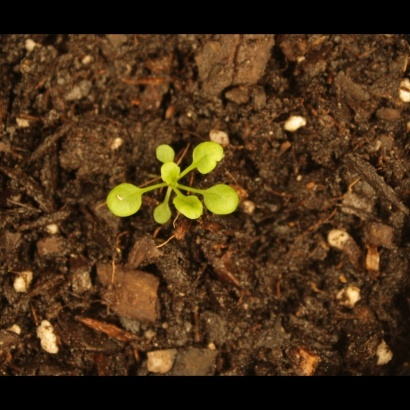leaf: (103, 179, 145, 220), (190, 135, 228, 176), (204, 180, 242, 220), (175, 187, 208, 223), (147, 139, 184, 170), (157, 157, 185, 188), (150, 199, 173, 229)
